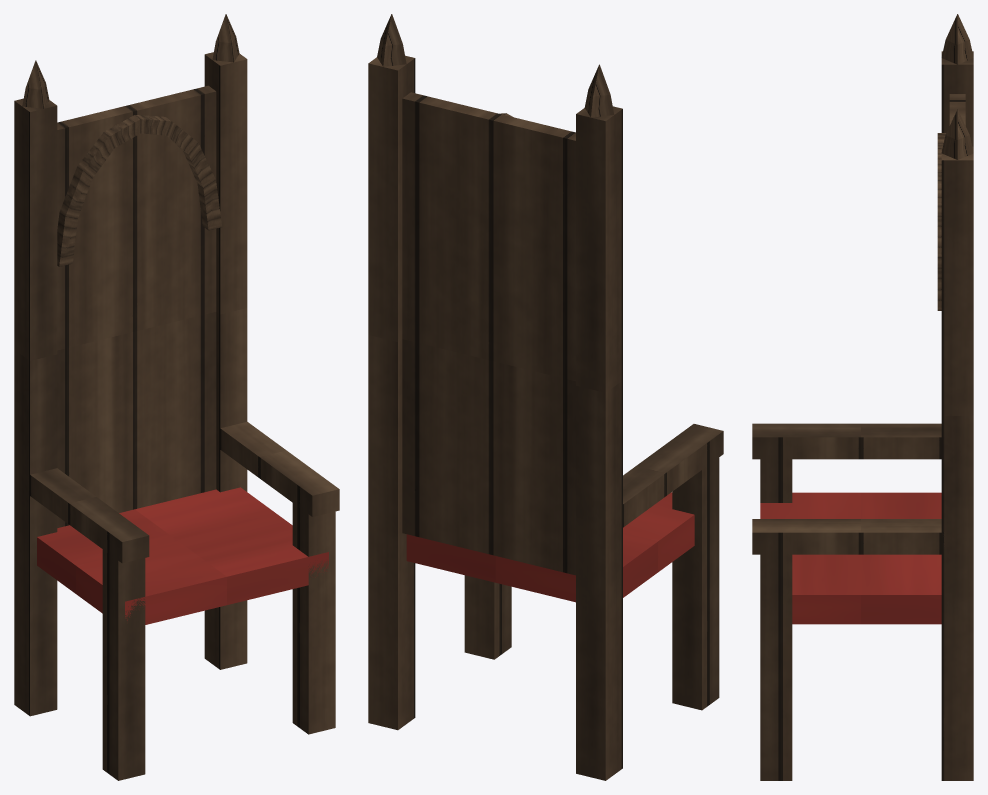
Rendered from Chair_Gothic_1_LOD1.gltf.
3 views of the same model, side by side, from view 1: azimuth 30°, elevation 25°; view 2: azimuth 150°, elevation 25°; view 3: azimuth 270°, elevation 25° (orthographic). The views are drawn at different scales.
Visible parts, largest first — view 1: Chair_Gothic_1_LOD1; view 2: Chair_Gothic_1_LOD1; view 3: Chair_Gothic_1_LOD1.
Boxes of the visible parts, x1,y1,x2,y2 form: Chair_Gothic_1_LOD1: (14,14,339,780); Chair_Gothic_1_LOD1: (368,14,723,780); Chair_Gothic_1_LOD1: (752,14,973,780).
Bounding box in the file's own units: 0.64 × 1.82 × 0.55.
2 materials, 2 textured.
